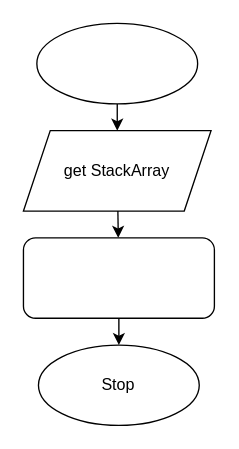
Image size: 239x449. Some labels were removed from this diagram. The centre of each missing label's shape, as x and y in pixels:
"console.log(stackNum)" belongs at pixel 118 277.
"Start" belongs at pixel 117 63.
